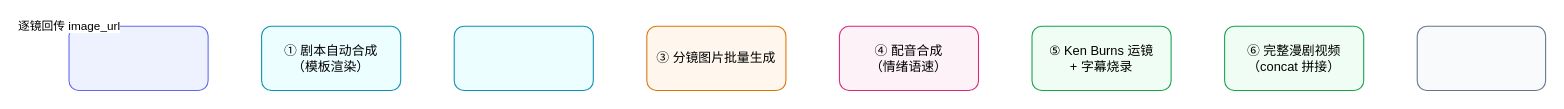
Image size: 1564x109. Some labels were removed from this diagram. Each missing label, with the centre of its shape:
"② 分镜脚本 （8~18 镜）" goes at (523,57).
"用户输入 选模板+填变量" goes at (138,57).
"输出：竖屏 MP4 + 预览页" goes at (1481,57).
